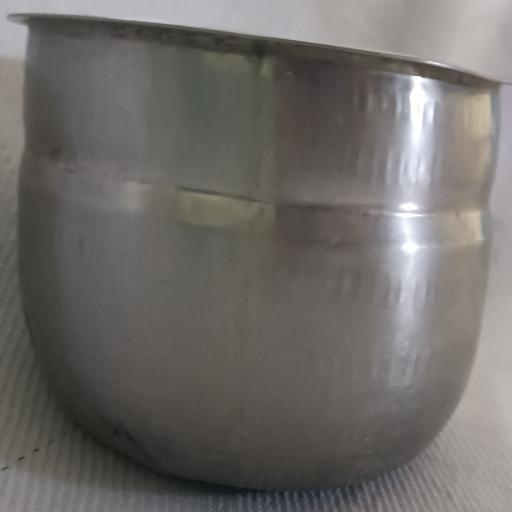vessel: (13, 15, 499, 489)
